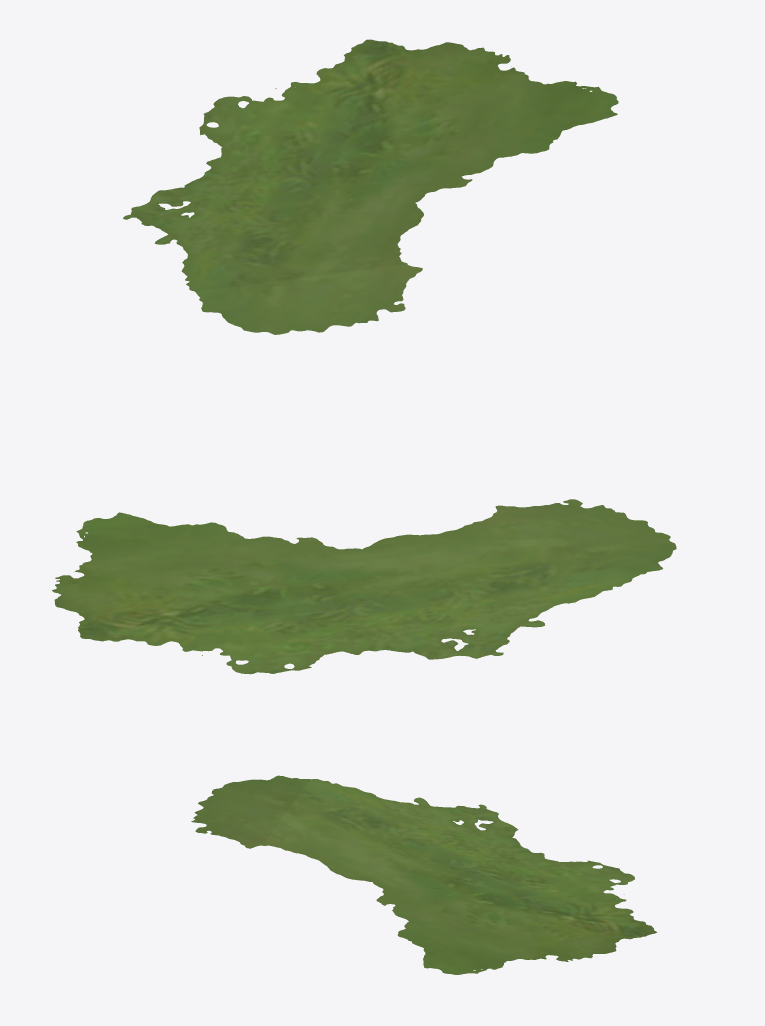
File: dibiao_01.FBX
3 views of the same model, one above another, from view 1: azimuth 30°, elevation 25°; view 2: azimuth 150°, elevation 25°; view 3: azimuth 270°, elevation 25° (orthographic). The views are drawn at different scales.
Parts seen in each view (by area): view 1: dibiao_01; view 2: dibiao_01; view 3: dibiao_01.
Part boxes in pixels (left/top/right/bottom): dibiao_01: left=123, top=39, right=618, bottom=334; dibiao_01: left=52, top=499, right=676, bottom=674; dibiao_01: left=191, top=775, right=656, bottom=974.
Size of the model in its own units: 319 by 12.43 by 330.
